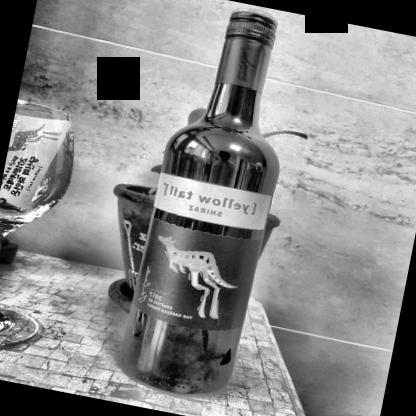yellowtail: (129, 171, 274, 342)
